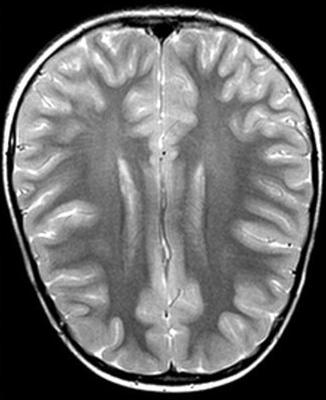Normal_Brain: (1, 1, 326, 400)
